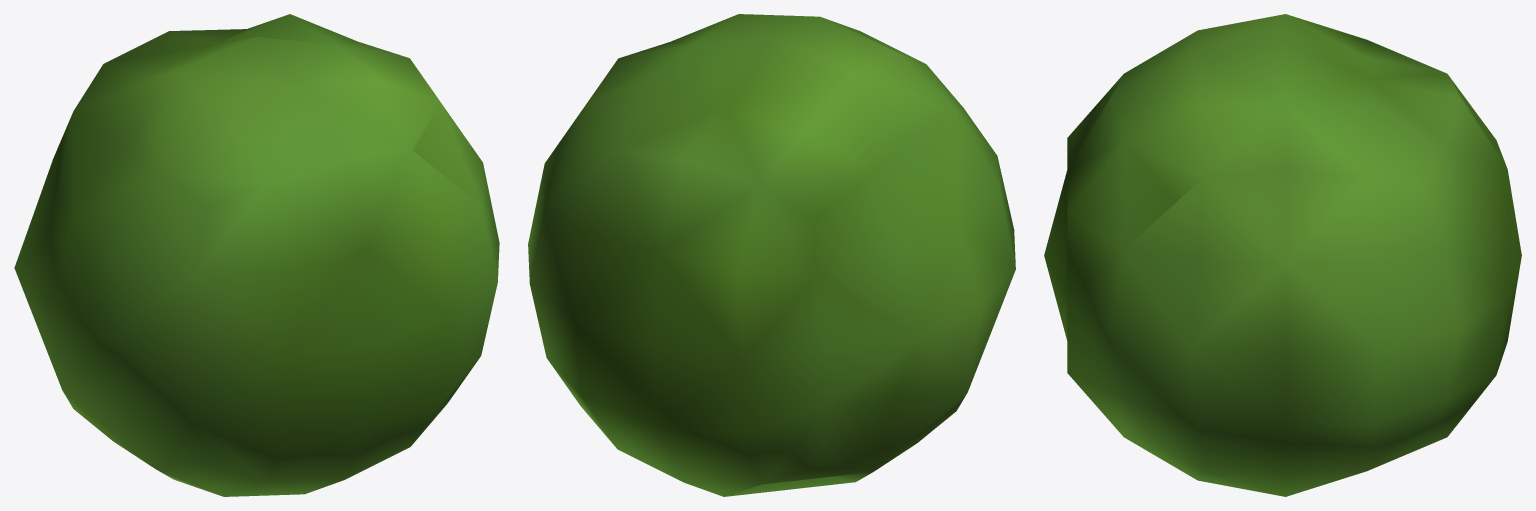
File: microscopic-bacteria-chain-bacterium_v3.glb
3 renders of one model, left to right at view 1: azimuth 30°, elevation 25°; view 2: azimuth 150°, elevation 25°; view 3: azimuth 270°, elevation 25°, orthographic.
Parts seen in each view (by area): view 1: Chain Bacterium_v3; view 2: Chain Bacterium_v3; view 3: Chain Bacterium_v3.
Part boxes in pixels (x1,y1,x2,y2): Chain Bacterium_v3: (14, 14, 499, 496); Chain Bacterium_v3: (528, 14, 1015, 496); Chain Bacterium_v3: (1044, 14, 1521, 496).
Bounding box in the file's own units: 0.3867 × 0.3987 × 0.4.
